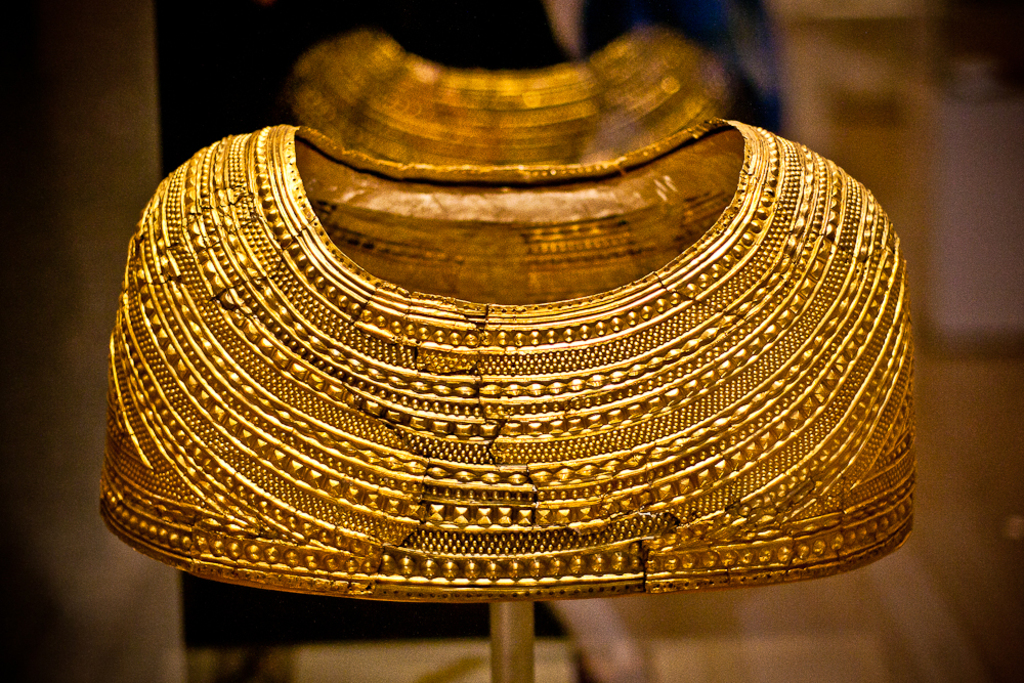face: (604, 71, 668, 118)
